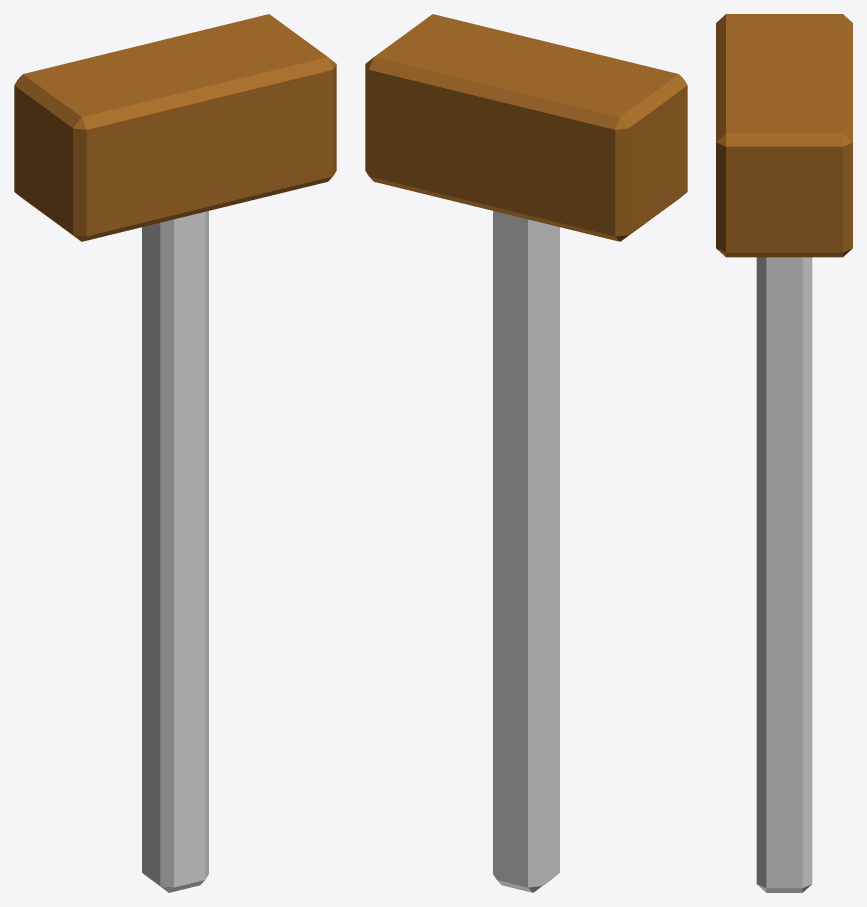
The model's file is Кувалда.fbx.
3 views of the same model, side by side, from view 1: azimuth 30°, elevation 25°; view 2: azimuth 150°, elevation 25°; view 3: azimuth 270°, elevation 25° (orthographic).
Parts seen in each view (by area): view 1: Cube; view 2: Cube; view 3: Cube.
Boxes of the visible parts, left/top/right/bottom form: Cube: left=14, top=14, right=336, bottom=892; Cube: left=365, top=14, right=687, bottom=892; Cube: left=716, top=14, right=852, bottom=892.
Size of the model in its own units: 0.3048 by 0.9025 by 0.1378.
